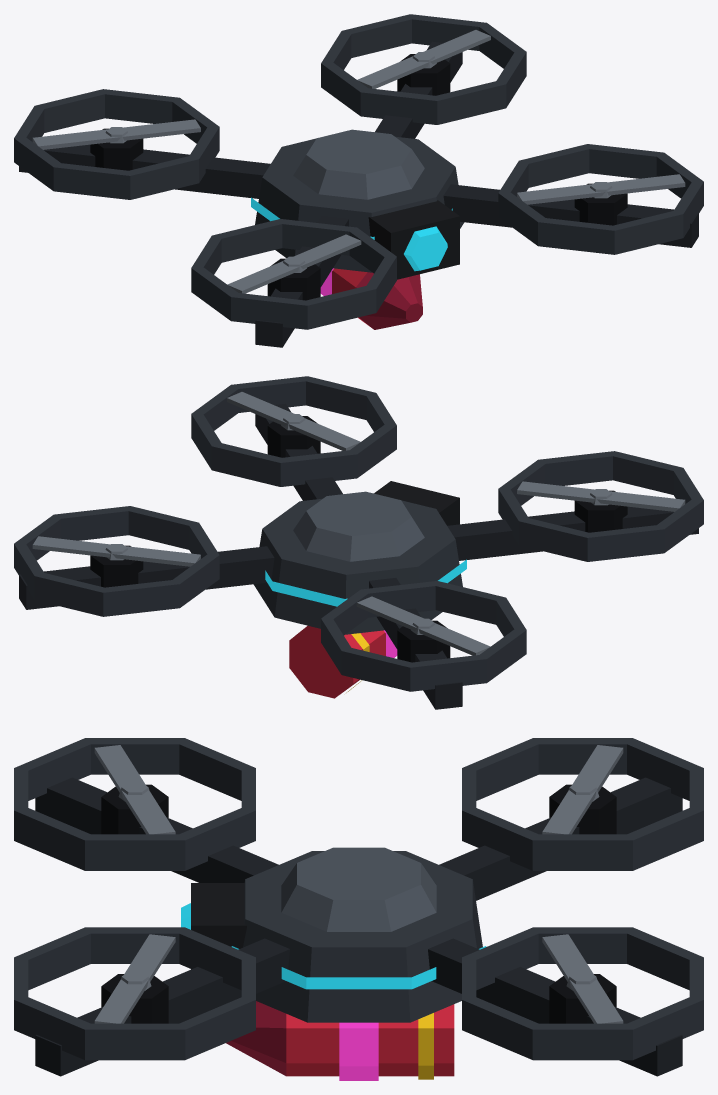
The model's file is kamikaze-drone.glb.
3 renders of one model, top to bottom at view 1: azimuth 30°, elevation 25°; view 2: azimuth 150°, elevation 25°; view 3: azimuth 270°, elevation 25°, orthographic. The views are drawn at different scales.
Visible parts, largest first — view 1: kamikaze_drone, rotor_2, rotor_0, rotor_1, rotor_3; view 2: kamikaze_drone, rotor_1, rotor_3, rotor_2, rotor_0; view 3: kamikaze_drone, rotor_1, rotor_2, rotor_0, rotor_3.
Part boxes in pixels (box(x1,y1,x2,y2)): kamikaze_drone: box(14, 14, 703, 347); rotor_2: box(32, 119, 200, 149); rotor_0: box(517, 174, 685, 204); rotor_1: box(227, 234, 361, 293); rotor_3: box(357, 30, 490, 88); kamikaze_drone: box(14, 376, 703, 709); rotor_1: box(517, 481, 685, 511); rotor_3: box(32, 536, 200, 566); rotor_2: box(356, 596, 490, 655); rotor_0: box(227, 392, 360, 450); kamikaze_drone: box(14, 738, 703, 1080); rotor_1: box(94, 745, 175, 834); rotor_2: box(542, 745, 623, 834); rotor_0: box(94, 934, 175, 1023); rotor_3: box(542, 934, 623, 1023).
Bounding box in the file's own units: 0.6162 × 0.1953 × 0.6162.
2 materials, 2 textured.
